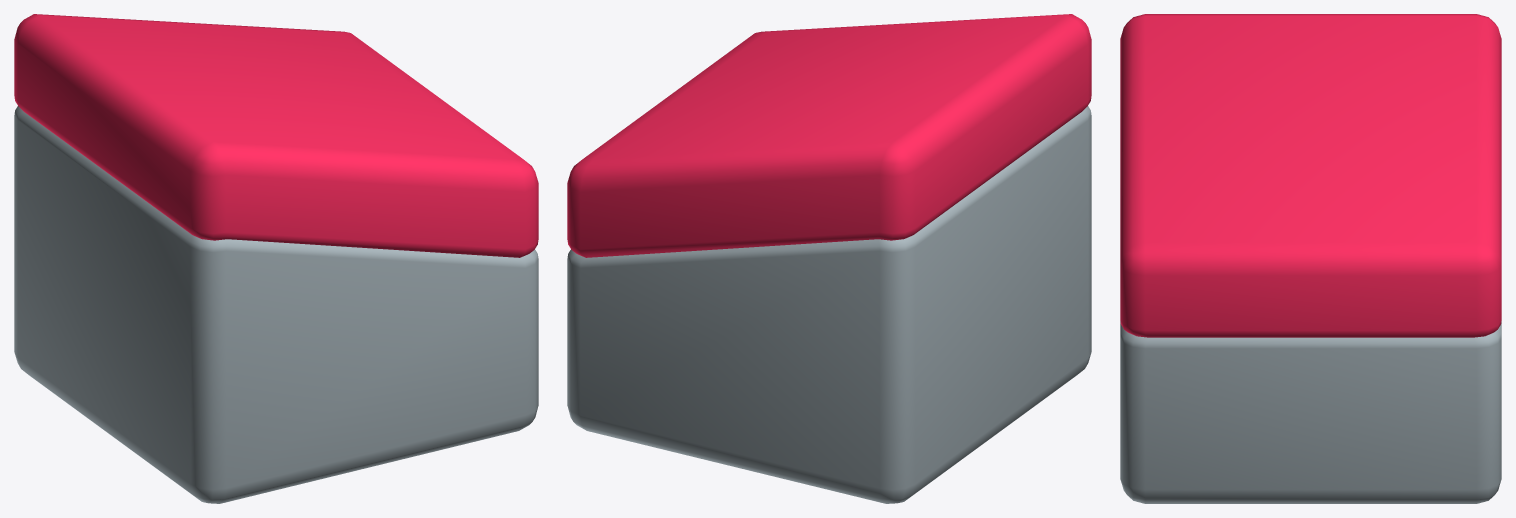
File: tileSlopeMediumHigh_teamRed-col.glb
The picture shows the model from 3 angles, left to right: view 1: azimuth 30°, elevation 25°; view 2: azimuth 150°, elevation 25°; view 3: azimuth 270°, elevation 25°; orthographic projection. The views are drawn at different scales.
Visible parts, largest first — view 1: tileSlopeMediumHigh_teamRed-col; view 2: tileSlopeMediumHigh_teamRed-col; view 3: tileSlopeMediumHigh_teamRed-col.
Boxes of the visible parts, bbox=[...] form: tileSlopeMediumHigh_teamRed-col: bbox=[14, 14, 538, 503]; tileSlopeMediumHigh_teamRed-col: bbox=[567, 14, 1091, 503]; tileSlopeMediumHigh_teamRed-col: bbox=[1120, 14, 1501, 503].
Size of the model in its own units: 2 by 2 by 2.
